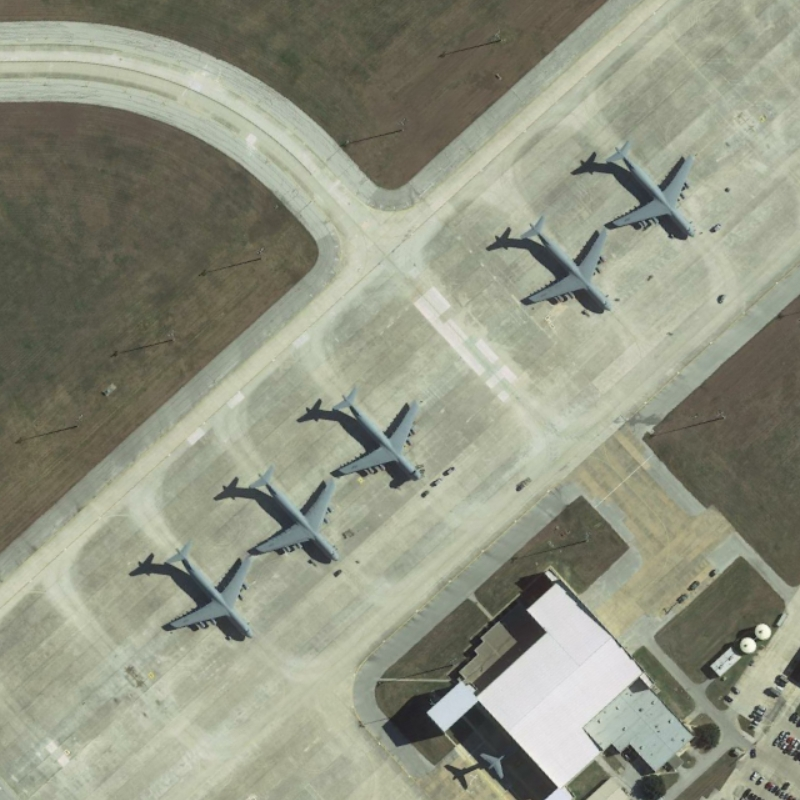A4: (242, 450, 348, 568), (505, 209, 614, 320), (326, 378, 432, 489), (151, 535, 255, 646), (603, 132, 699, 245)
